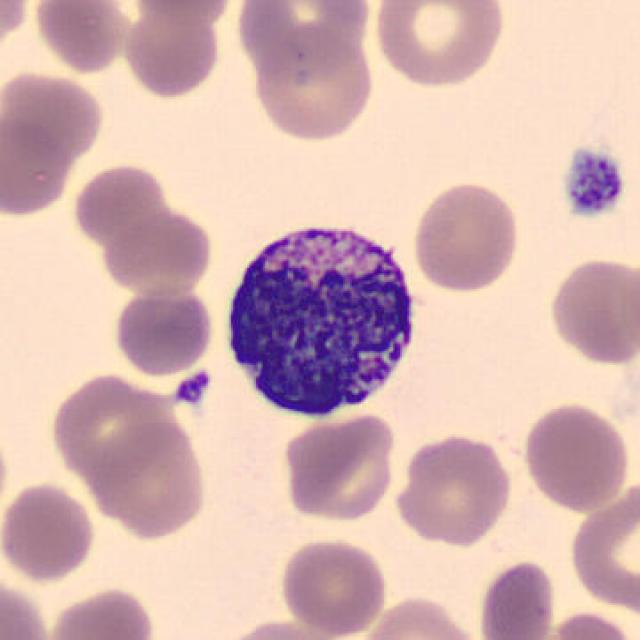Basophil: (210, 208, 428, 425)
Platelets: (556, 143, 630, 222), (172, 370, 214, 409)
RBC: (245, 28, 379, 146), (87, 416, 212, 541), (46, 369, 176, 483), (390, 431, 516, 548), (279, 409, 400, 525), (407, 178, 523, 295), (519, 399, 633, 513), (370, 0, 508, 90), (276, 534, 390, 637), (96, 204, 217, 300), (233, 0, 375, 81), (544, 252, 638, 369), (0, 478, 100, 585), (2, 67, 106, 166), (119, 2, 224, 100), (566, 476, 638, 615), (110, 284, 215, 377), (0, 100, 76, 220), (70, 161, 172, 245), (30, 0, 132, 76), (475, 557, 558, 640), (44, 583, 158, 640), (356, 592, 484, 640), (213, 615, 352, 640), (0, 575, 53, 640), (532, 608, 636, 640), (124, 0, 238, 25), (0, 0, 34, 60), (0, 416, 12, 534)
